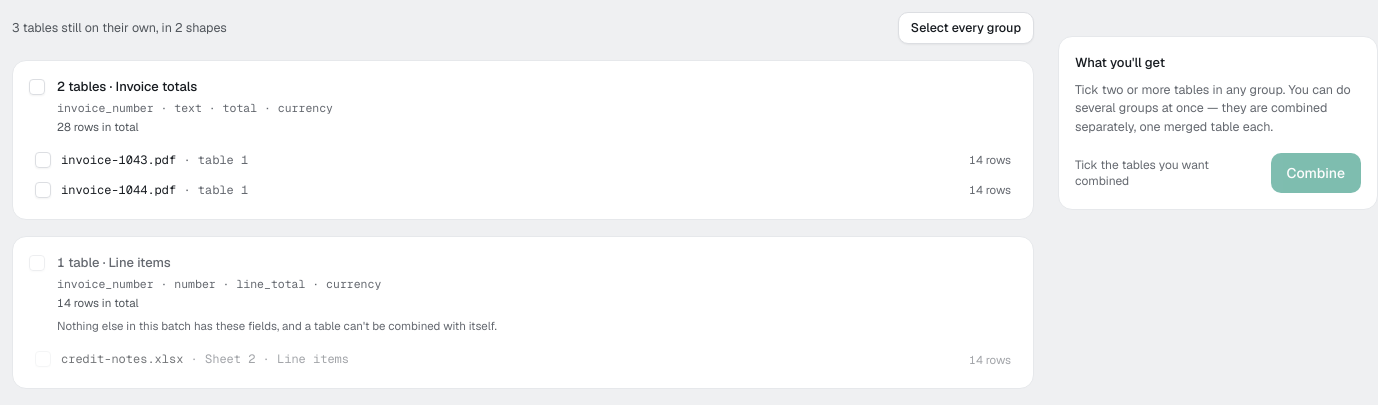
MergePicker › says so when only one table is picked
Click the checkbox named "invoice-1043.pdf · table 1". click: (43, 160)
box: x1=35 y1=152 x2=51 y2=168
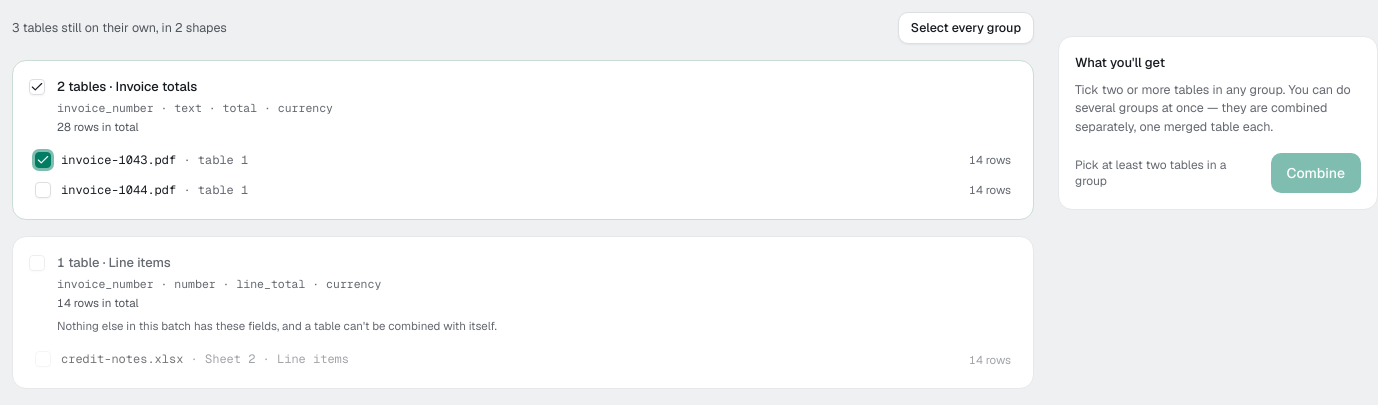
Now the text "Pick at least two tables in a group" is shown, box x1=1075 y1=157 x2=1226 y2=189
